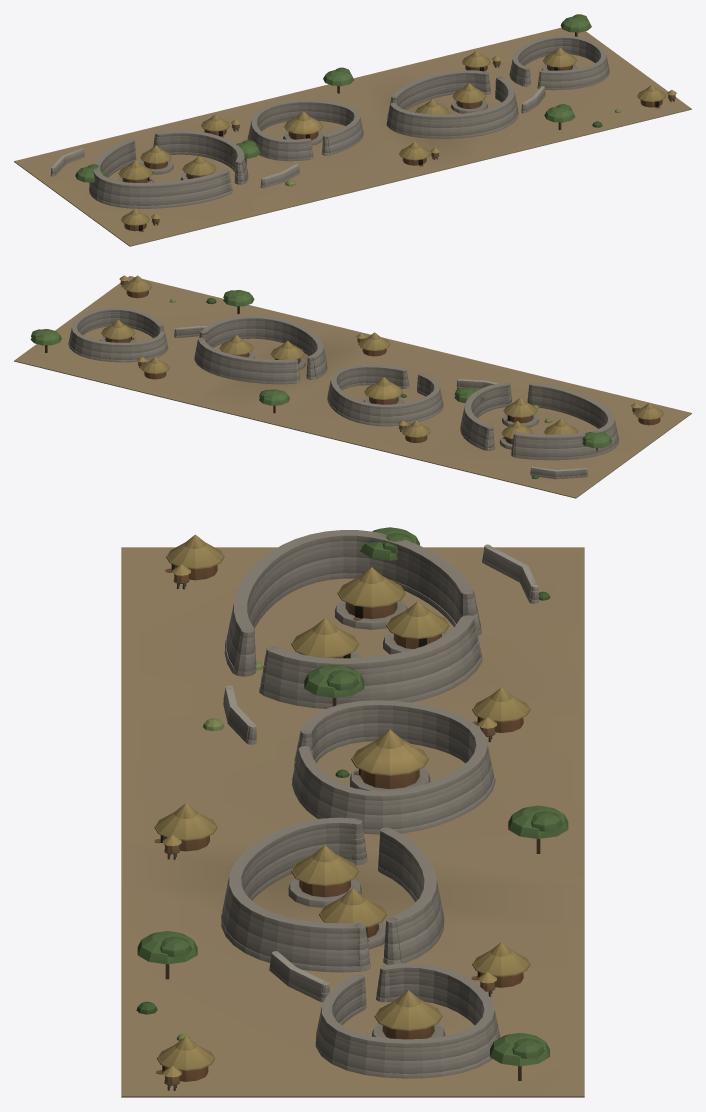
Rendered from valley-ruins.glb.
3 views of the same model, one above another, from view 1: azimuth 30°, elevation 25°; view 2: azimuth 150°, elevation 25°; view 3: azimuth 270°, elevation 25° (orthographic). The views are drawn at different scales.
Visible parts, largest first — view 1: p0_ground, p1_walls, p2_houses, p3_trees; view 2: p0_ground, p1_walls, p2_houses, p3_trees; view 3: p0_ground, p1_walls, p2_houses, p3_trees.
Boxes of the visible parts, left/top/right/bottom form: p0_ground: left=14, top=27, right=691, bottom=246; p1_walls: left=50, top=35, right=609, bottom=208; p2_houses: left=118, top=47, right=676, bottom=232; p3_trees: left=75, top=14, right=620, bottom=186; p0_ground: left=14, top=276, right=691, bottom=498; p1_walls: left=68, top=307, right=619, bottom=479; p2_houses: left=100, top=275, right=663, bottom=449; p3_trees: left=30, top=290, right=611, bottom=479; p0_ground: left=121, top=547, right=584, bottom=1097; p1_walls: left=221, top=530, right=538, bottom=1078; p2_houses: left=154, top=534, right=530, bottom=1090; p3_trees: left=136, top=527, right=568, bottom=1080.
Bounding box in the file's own units: 140 × 6.52 × 50.
